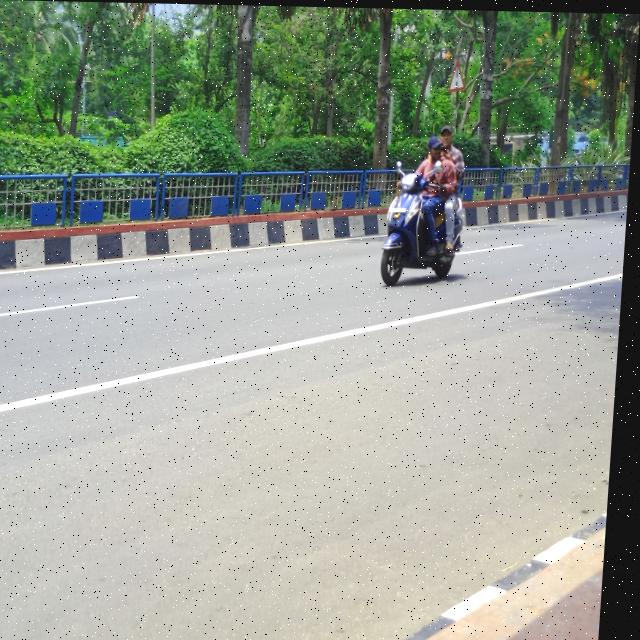bike: (376, 165, 467, 293)
